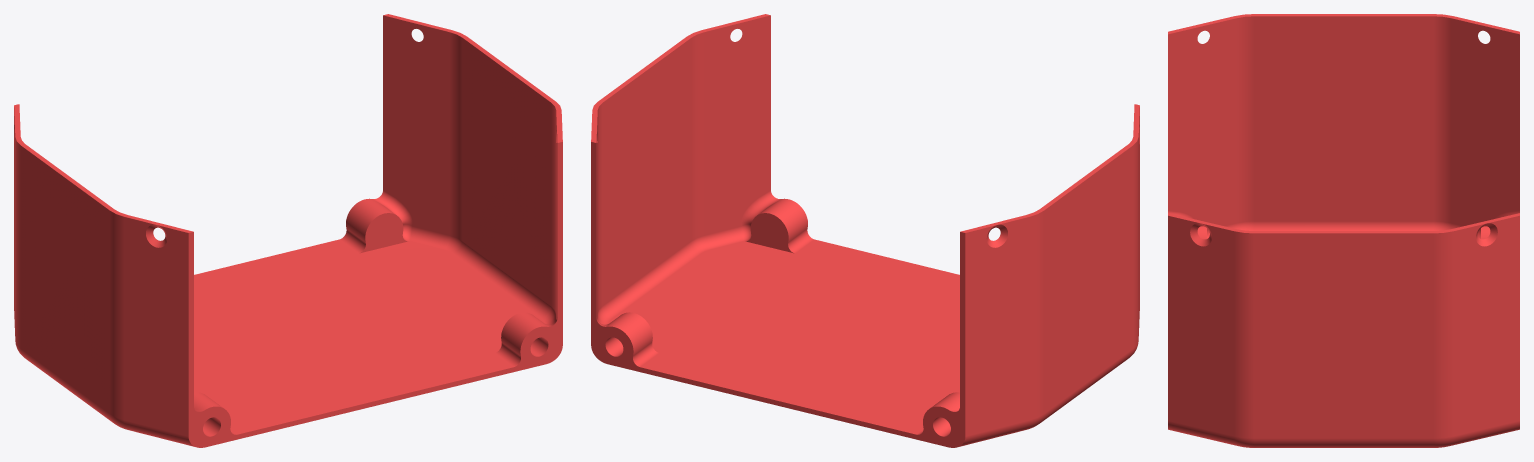
The model's file is chassis_front.obj.
3 renders of one model, left to right at view 1: azimuth 30°, elevation 25°; view 2: azimuth 150°, elevation 25°; view 3: azimuth 270°, elevation 25°, orthographic.
Parts seen in each view (by area): view 1: front; view 2: front; view 3: front.
Part boxes in pixels (x1,y1,x2,y2): front: [14, 14, 562, 447]; front: [591, 14, 1139, 447]; front: [1168, 14, 1519, 447].
Bounding box in the file's own units: 0.124 × 0.058 × 0.084.
